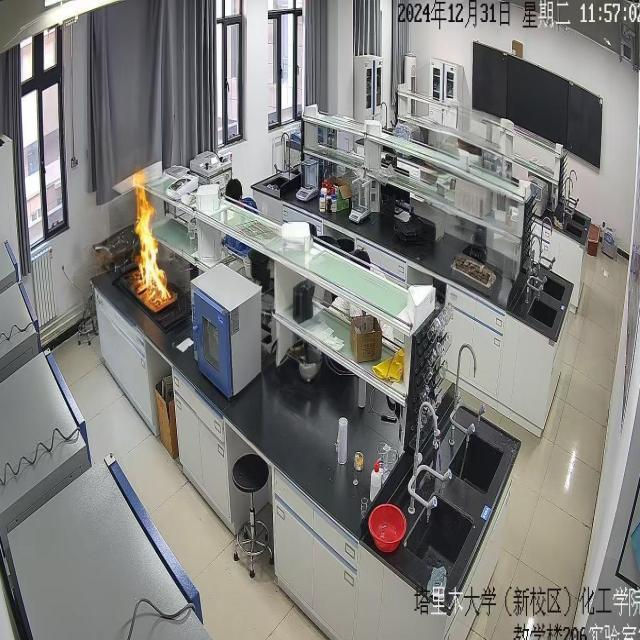smoke: (129, 159, 172, 308)
